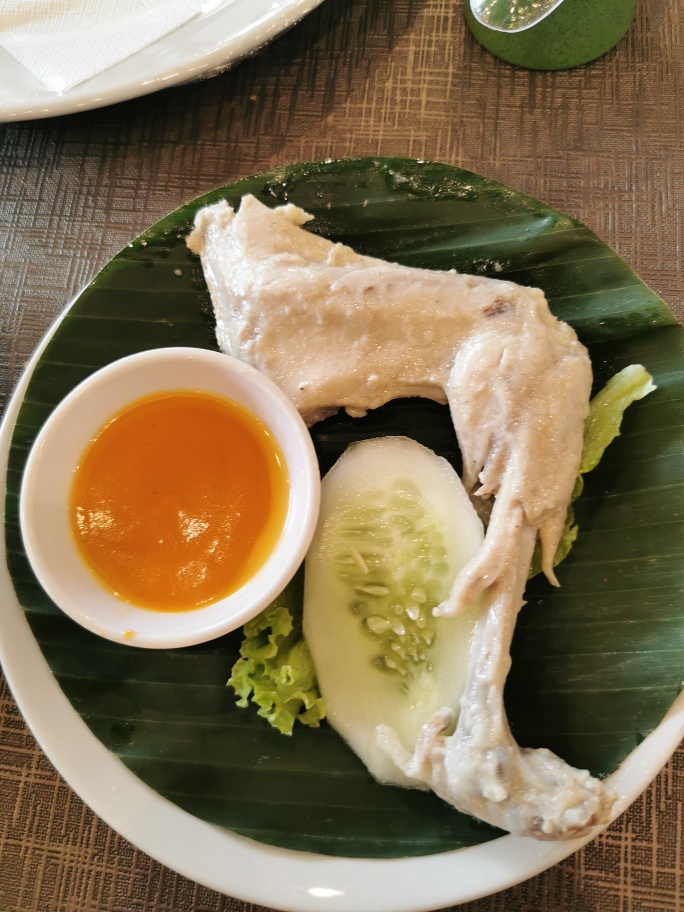ayam pop: (184, 193, 614, 849)
extra: (23, 337, 483, 794)
